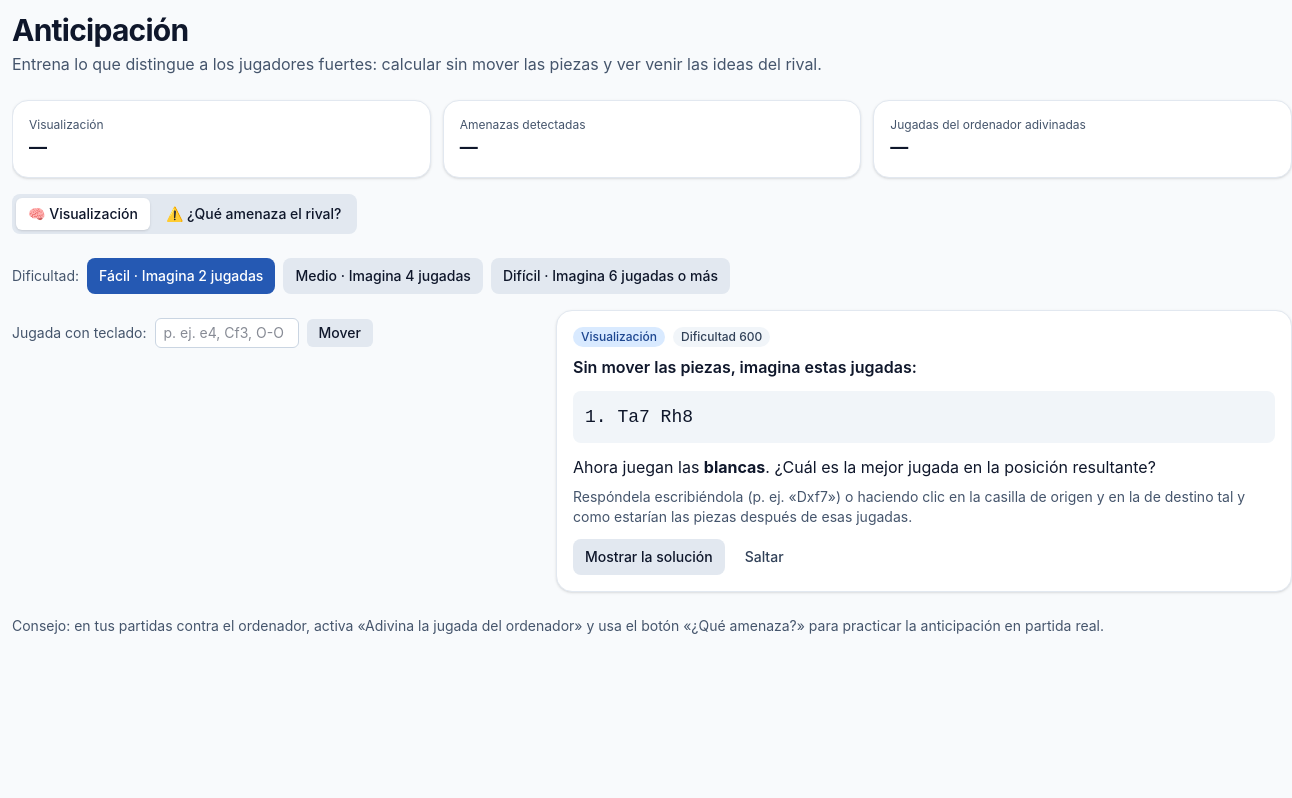
Scenario: AnticipationPage › visualización: hay que responder en la posición imaginada
Expected: the text "1. Ta7 Rh8" is shown, [573,391,1275,443]
Type "Ta6" into the field labelled "Jugada con teclado:".
click(226, 333); type("Ta6")  # box [154,318,298,348]
Then press Enter
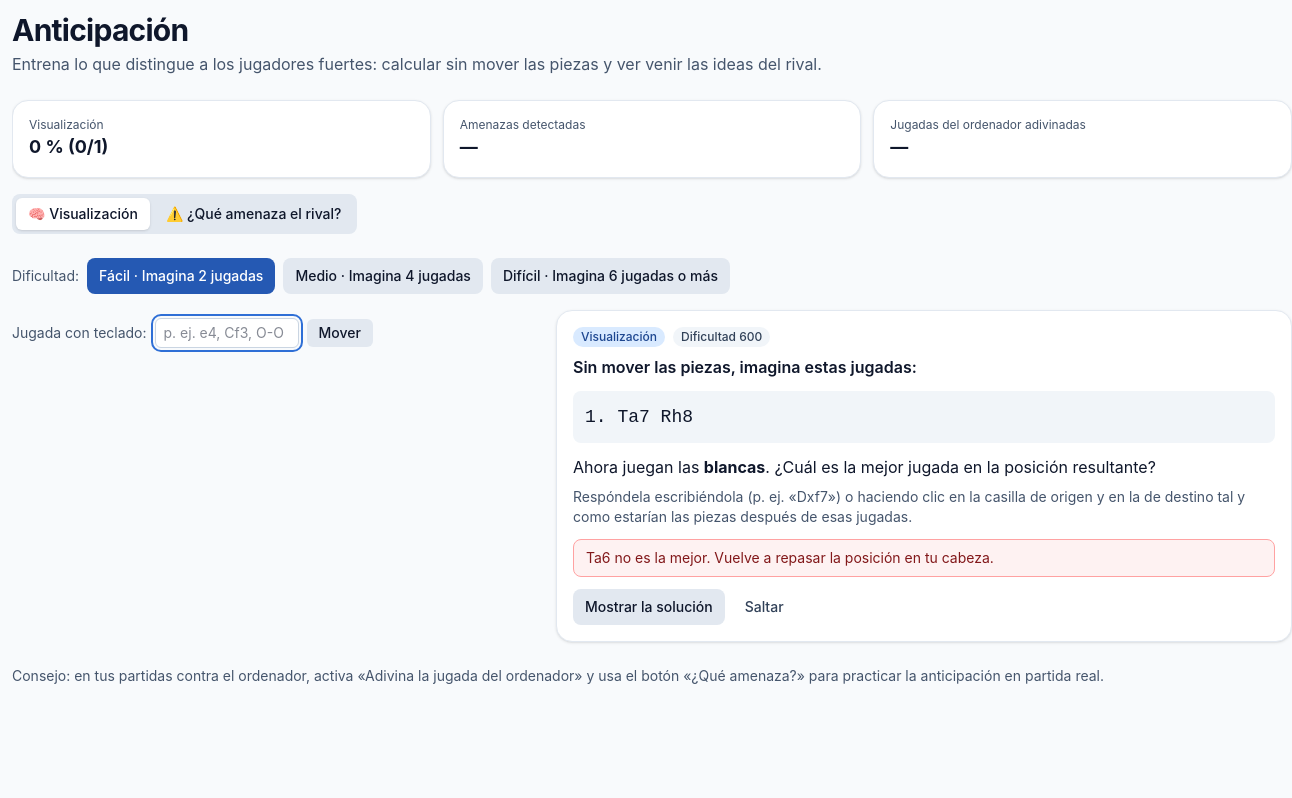
Now the text "Ta6 no es la mejor. Vuelve a repasar la posición en tu cabeza." is shown, box [573,539,1275,577]
Type "Tb8" into the field labelled "Jugada con teclado:".
click(226, 333); type("Tb8")  # box [154,318,298,348]
Then press Enter
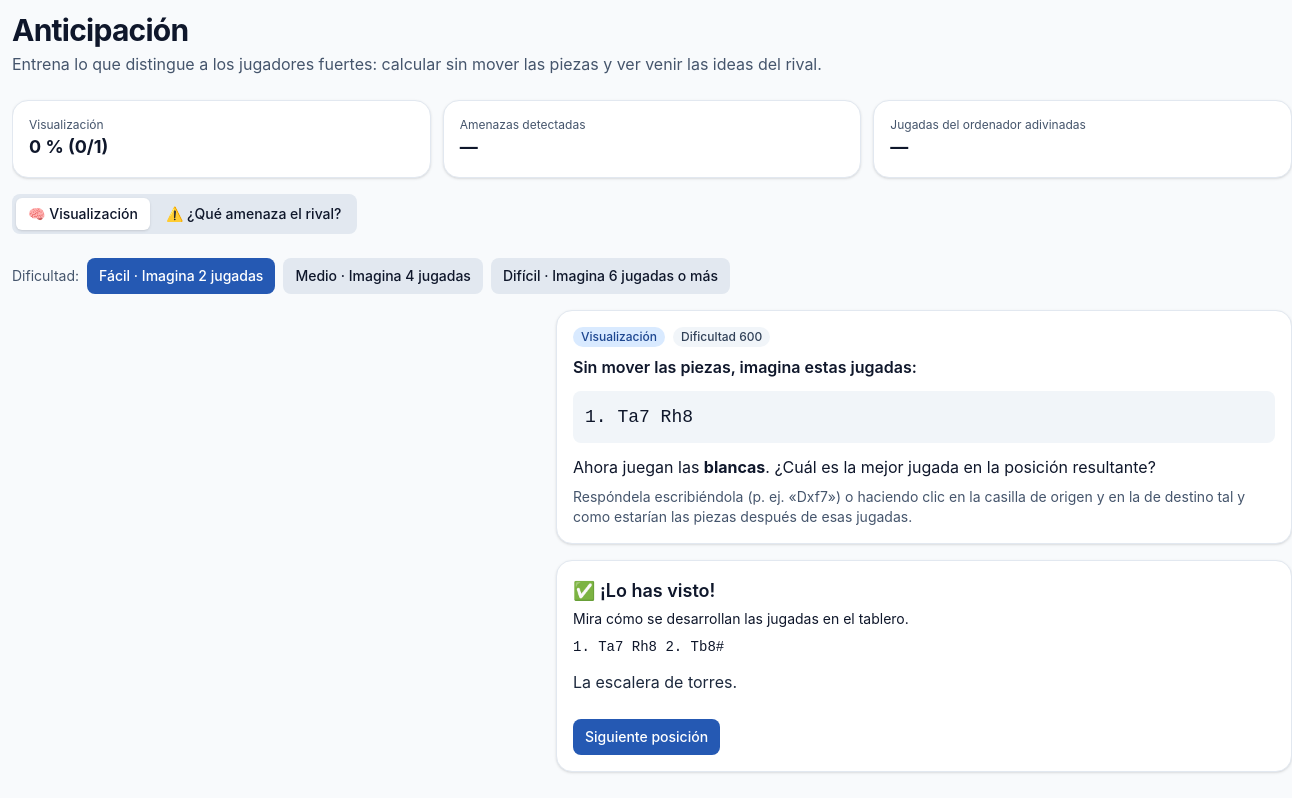
Now the text "✅ ¡Lo has visto!" is shown, box [573,580,715,601]
